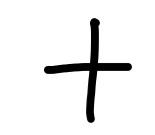plus: (44, 17, 131, 122)
